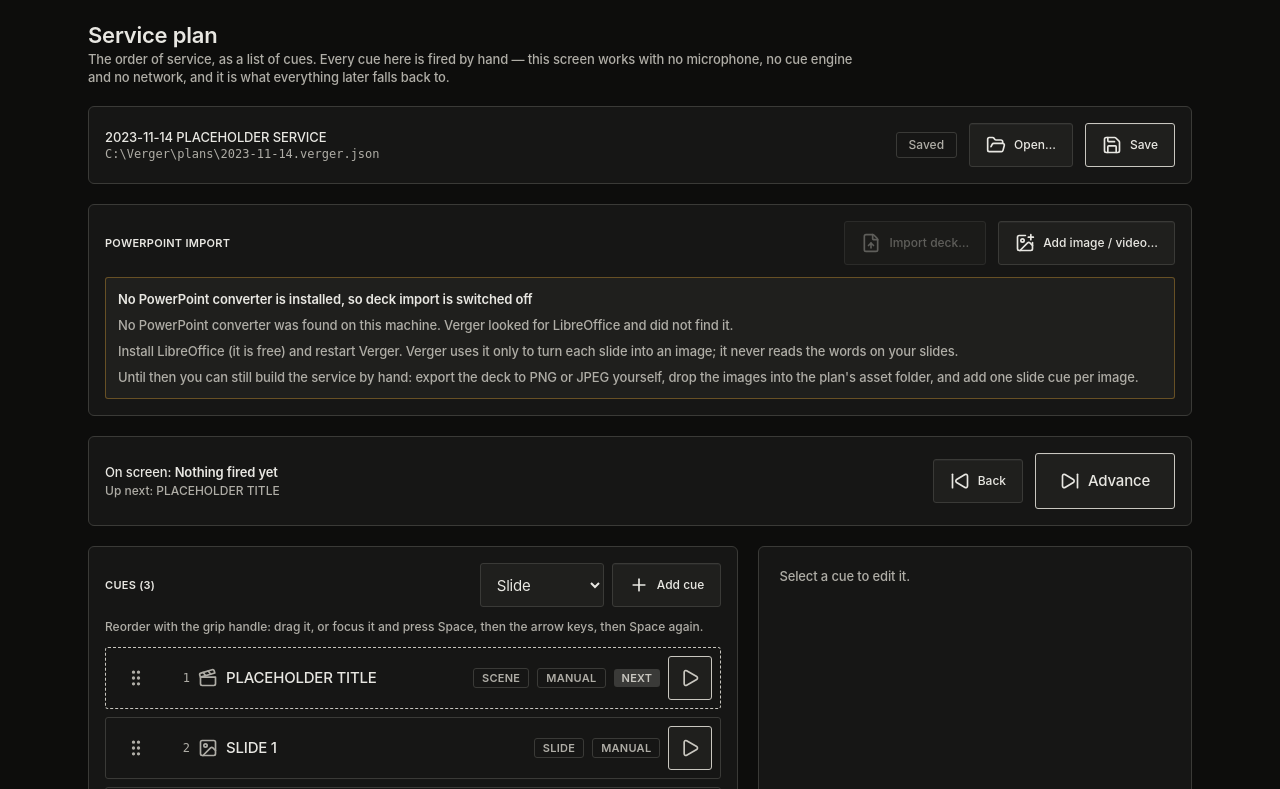
Test: PlanEditor › persists an edited label once the typing settles
Click the button with test id "cue-select-cue-slide-1" at (376, 748), box [226,738,526,758]
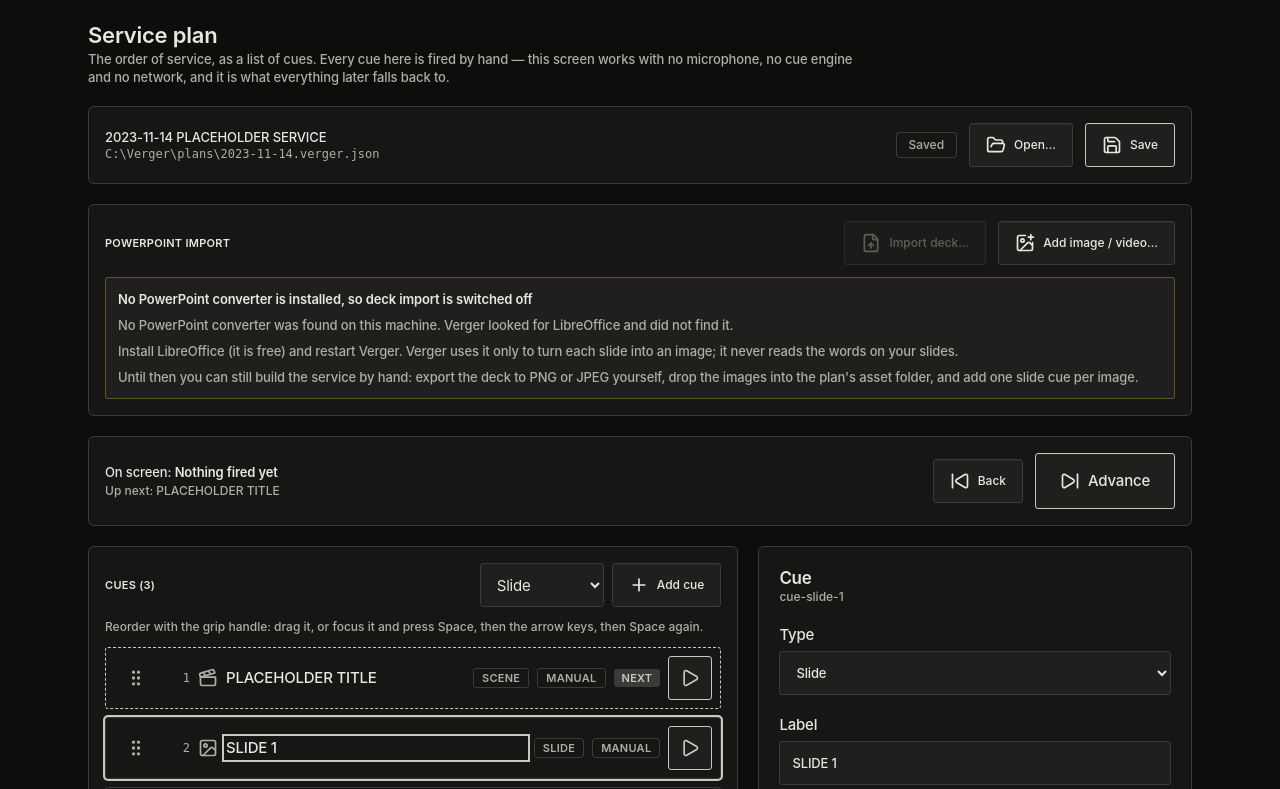
Clear the field labelled "Label" at (975, 763), box [779,741,1171,785]
(page scrolled)
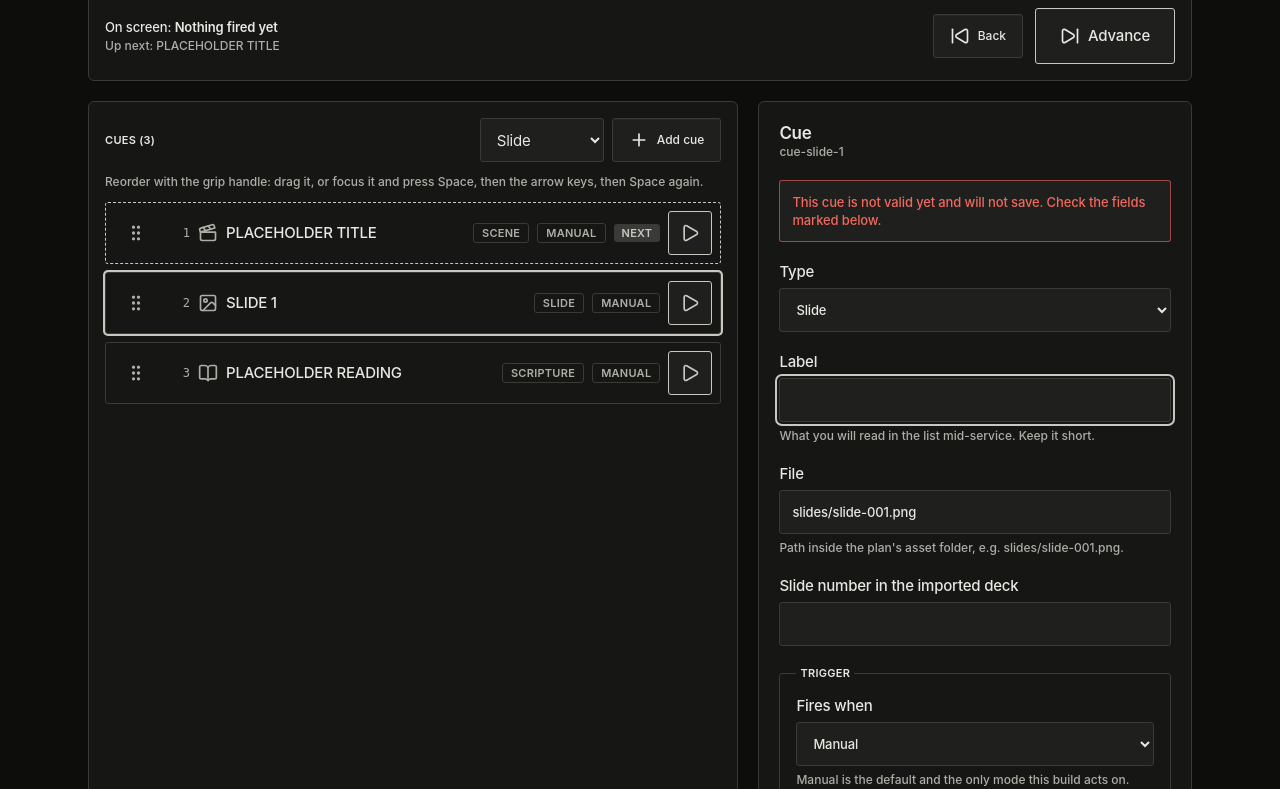
Type "SLIDE 2" into the field labelled "Label" at (975, 400), box [779,378,1171,422]
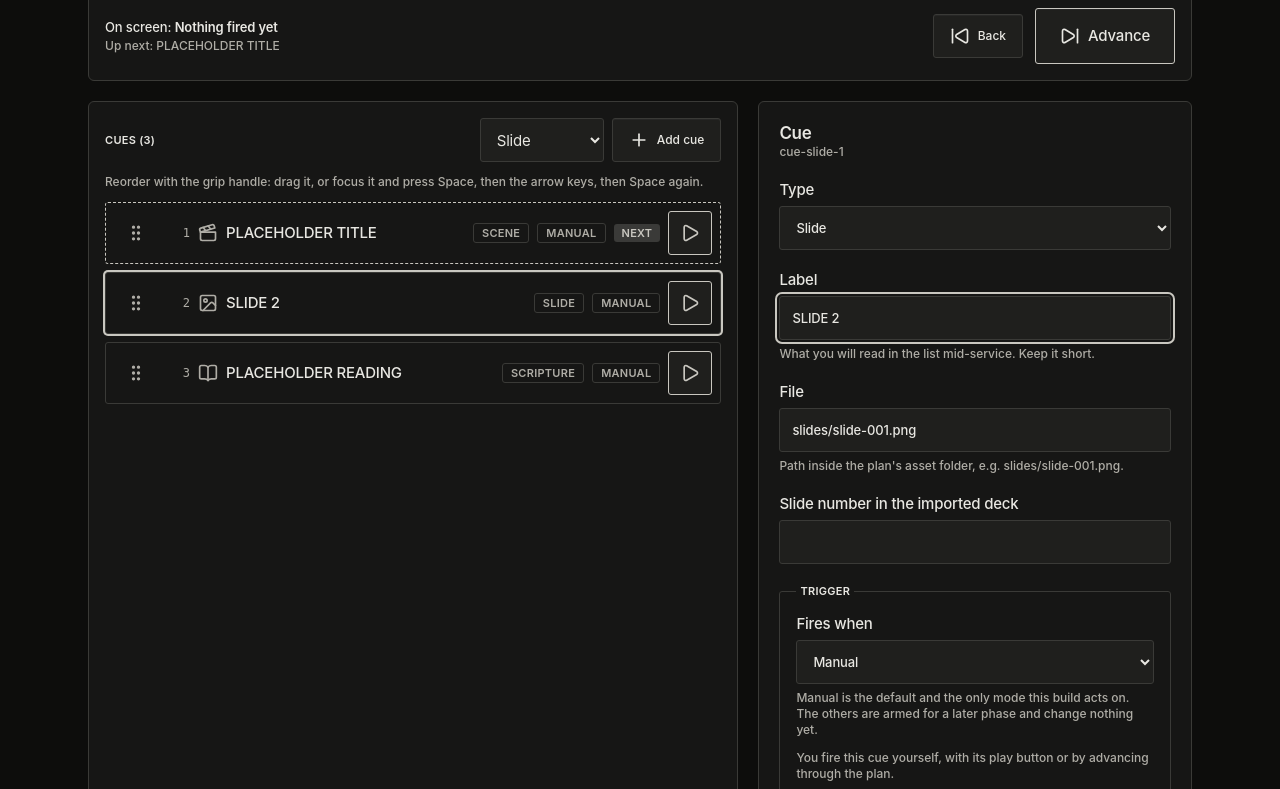
Result: the text "SLIDE 2" is shown at [226,293,280,312]
Result: the list item with test id "cue-row-cue-slide-1" shows "SLIDE 2" at [226,293,526,313]
